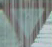Give way: (3, 4, 51, 43)
